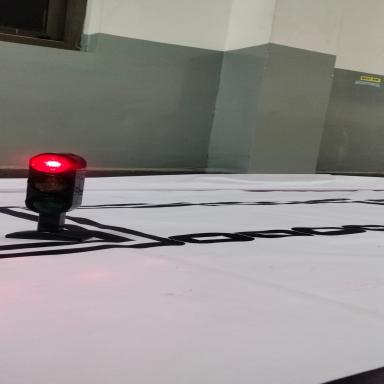traffic red: (12, 136, 116, 252)
